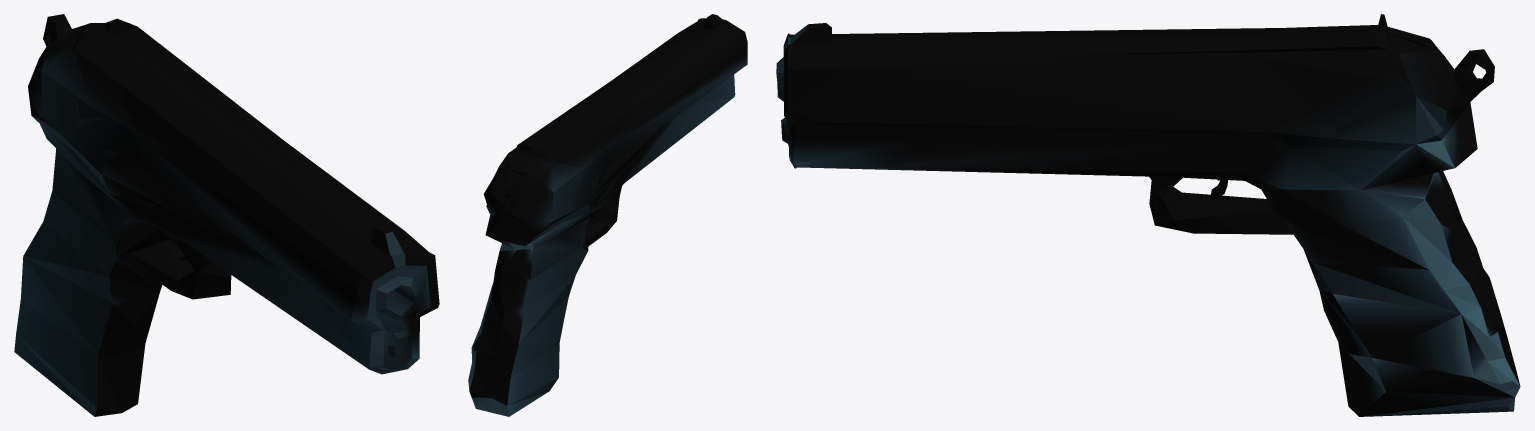
File: Weapon_Pistol_Fixed.fbx
The picture shows the model from 3 angles, left to right: view 1: azimuth 30°, elevation 25°; view 2: azimuth 150°, elevation 25°; view 3: azimuth 270°, elevation 25°; orthographic projection. The views are drawn at different scales.
Parts seen in each view (by area): view 1: Weapon_Pistol; view 2: Weapon_Pistol; view 3: Weapon_Pistol.
Boxes of the visible parts, box(x1,y1,x2,y2) form: Weapon_Pistol: box(14, 14, 439, 416); Weapon_Pistol: box(468, 14, 747, 416); Weapon_Pistol: box(776, 14, 1520, 416).
Bounding box in the file's own units: 0.0512 × 0.1856 × 0.3208.
Materials: 1 (1 with a texture image).
